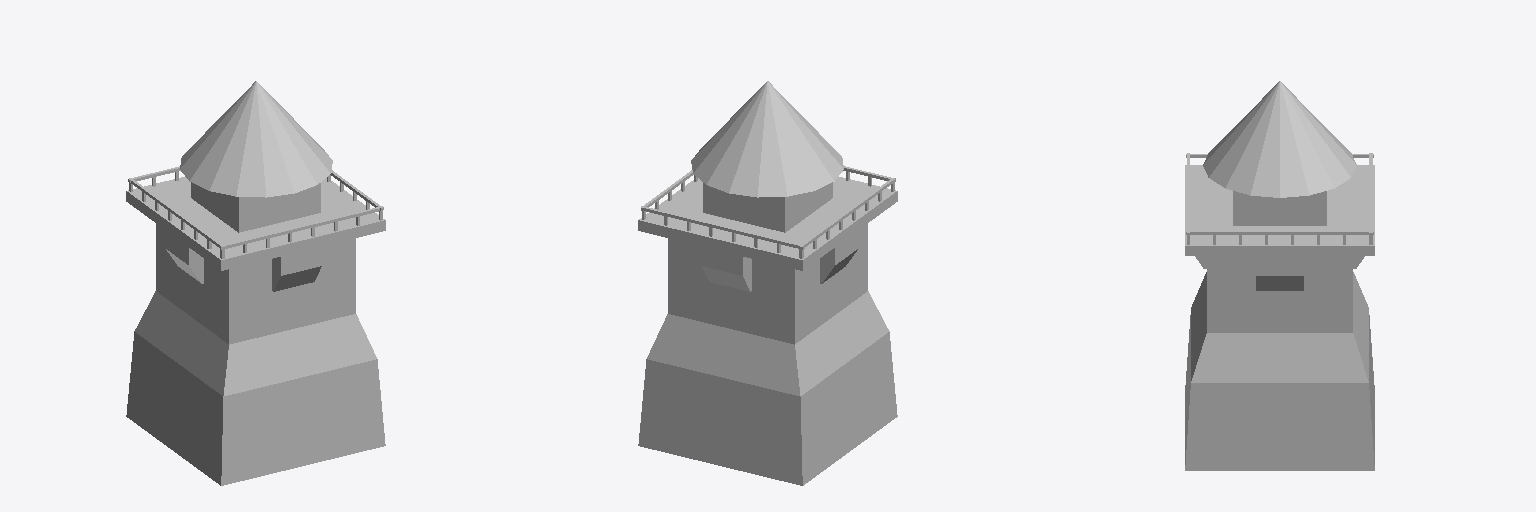
Rendered from SimpleTower.obj.
3 renders of one model, left to right at view 1: azimuth 30°, elevation 25°; view 2: azimuth 150°, elevation 25°; view 3: azimuth 270°, elevation 25°, orthographic.
Size of the model in its own units: 512 by 1043 by 512.